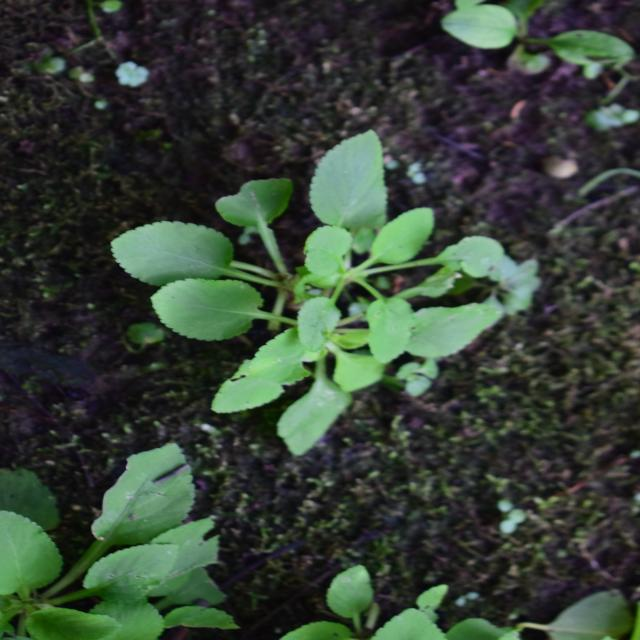Viola: (150, 138, 402, 486)
